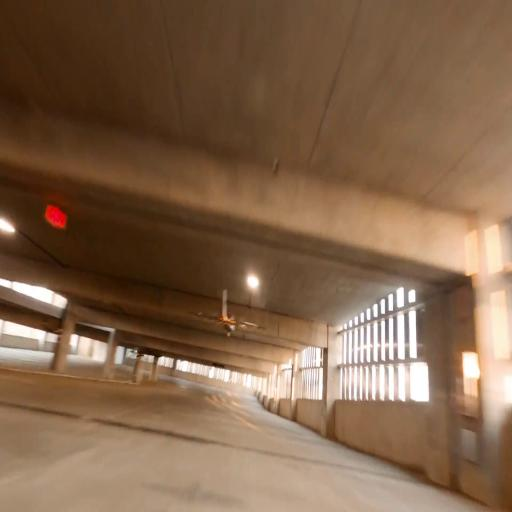uav: (195, 302, 265, 344)
